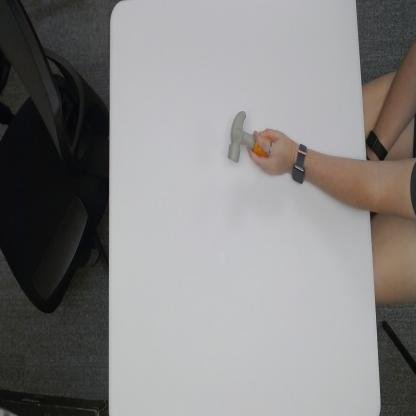Arm: (306, 149, 368, 216)
Hammer: (228, 108, 270, 164)
Hand: (248, 126, 292, 178)
